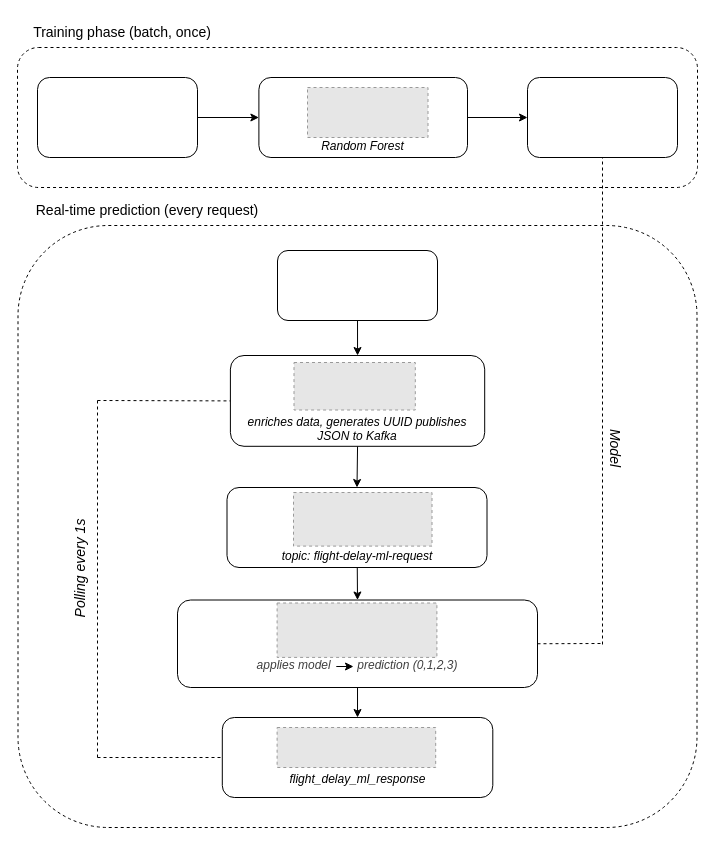
This 715x845 diagram has some shape labels left out. Grey dashed boxes stand in for pictures. The shapes that lost their labels are listed below. From the top down, each one's centre as x and y in pixels, then its label:
At (x=117, y=117): "2015 flight dataset .json.bz2".
At (x=602, y=117): "Trained model /models".
At (x=357, y=285): "User fills form in browser".
